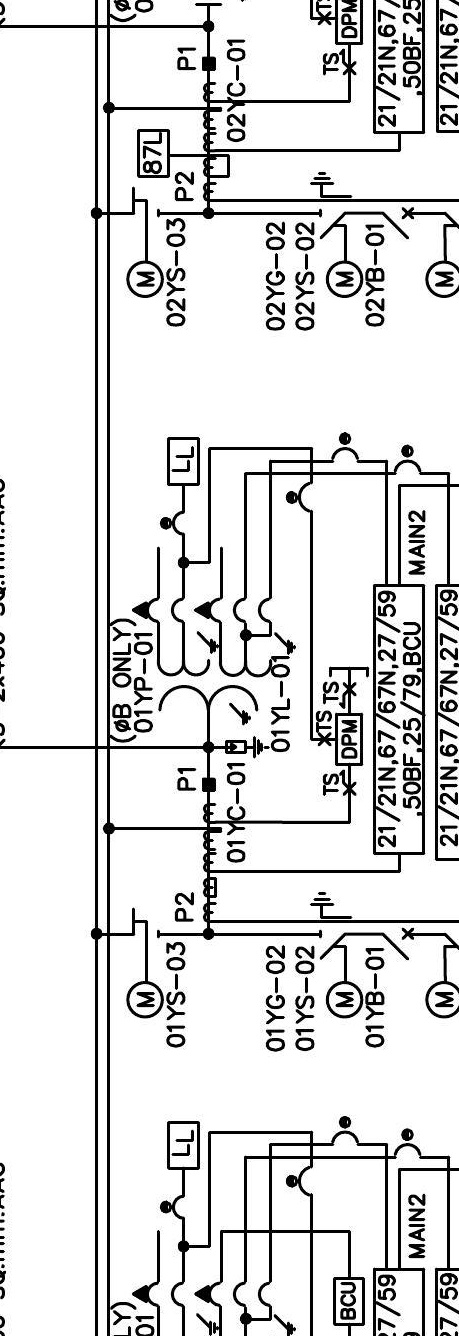115_1way_ds_w_motor: (125, 907, 165, 1020), (125, 186, 165, 299)
115_3ways_ds_w_motor: (309, 891, 364, 1019), (310, 170, 364, 299)
115_breaker: (382, 207, 415, 240), (382, 927, 414, 961)
115_la: (225, 735, 271, 759)
115_vt_1p: (131, 596, 296, 726)
BCU: (332, 1276, 366, 1327)
DPM: (335, 713, 363, 767)
LL: (166, 436, 201, 487), (167, 1121, 200, 1170)
